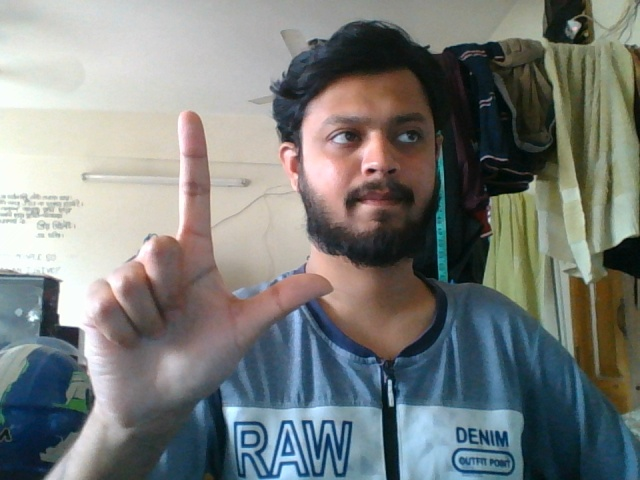la: (80, 104, 339, 448)
